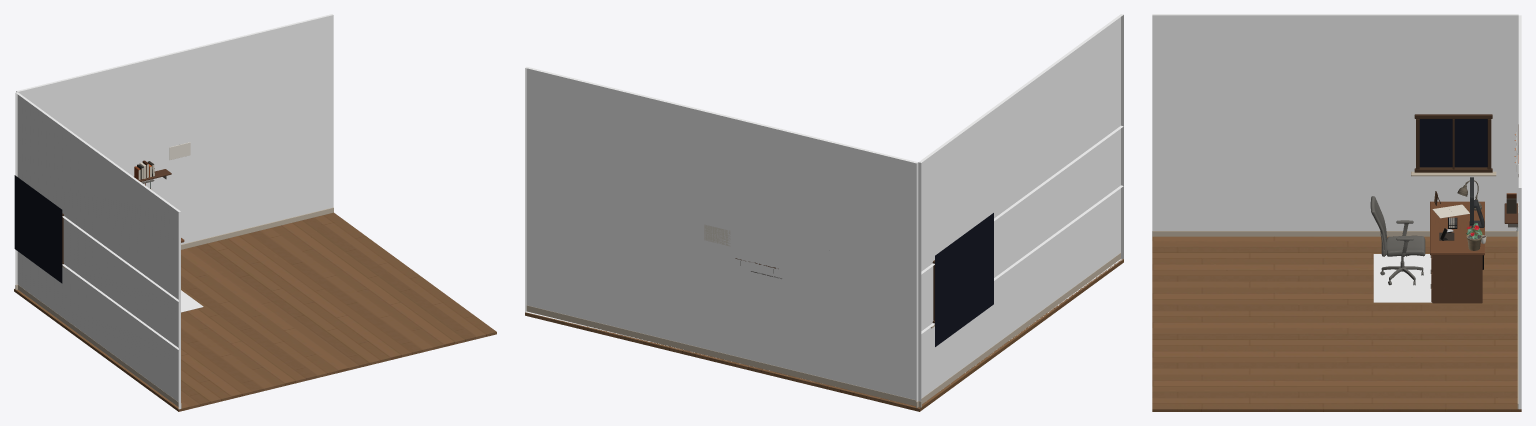
File: room.glb
The picture shows the model from 3 angles, left to right: view 1: azimuth 30°, elevation 25°; view 2: azimuth 150°, elevation 25°; view 3: azimuth 270°, elevation 25°; orthographic projection. The views are drawn at different scales.
Parts seen in each view (by area): view 1: wall-back, floor, wall-left-high, wall-left-low, wall-left-front, sky, skirting-back, skirting-left; view 2: wall-back, wall-left-high, wall-left-low, wall-left-front, sky, floor, skirting-back, skirting-left, wall-left-back; view 3: floor, wall-left-high, wall-left-low, wall-left-front, sky, rug, drawers, desk-top, skirting-left, chair-model, wall-back, wall-left-back (+6 smaller).
Part boxes in pixels (<box>): wall-back: <box>16,14,333,244</box>; floor: <box>14,212,496,411</box>; wall-left-high: <box>15,92,180,301</box>; wall-left-low: <box>15,249,180,409</box>; wall-left-front: <box>62,216,180,349</box>; sky: <box>14,175,62,283</box>; skirting-back: <box>15,207,333,289</box>; skirting-left: <box>18,285,181,408</box>; wall-back: <box>525,67,918,401</box>; wall-left-high: <box>918,14,1123,274</box>; wall-left-low: <box>918,186,1123,401</box>; wall-left-front: <box>994,125,1123,277</box>; sky: <box>935,213,993,346</box>; floor: <box>525,259,1123,411</box>; skirting-back: <box>526,305,921,407</box>; skirting-left: <box>916,253,1120,407</box>; wall-left-back: <box>918,263,934,333</box>; floor: <box>1152,236,1521,411</box>; wall-left-high: <box>1152,14,1518,116</box>; wall-left-low: <box>1152,170,1518,230</box>; wall-left-front: <box>1152,116,1415,169</box>; sky: <box>1419,119,1487,167</box>; rug: <box>1373,254,1431,302</box>; drawers: <box>1432,255,1482,303</box>; desk-top: <box>1430,201,1484,255</box>; skirting-left: <box>1152,231,1517,236</box>; chair-model: <box>1370,196,1425,285</box>; wall-back: <box>1518,15,1521,409</box>; wall-left-back: <box>1491,116,1518,169</box>.
Size of the model in its own units: 5.5 by 3.24 by 4.84.
62 materials, 10 textured.
